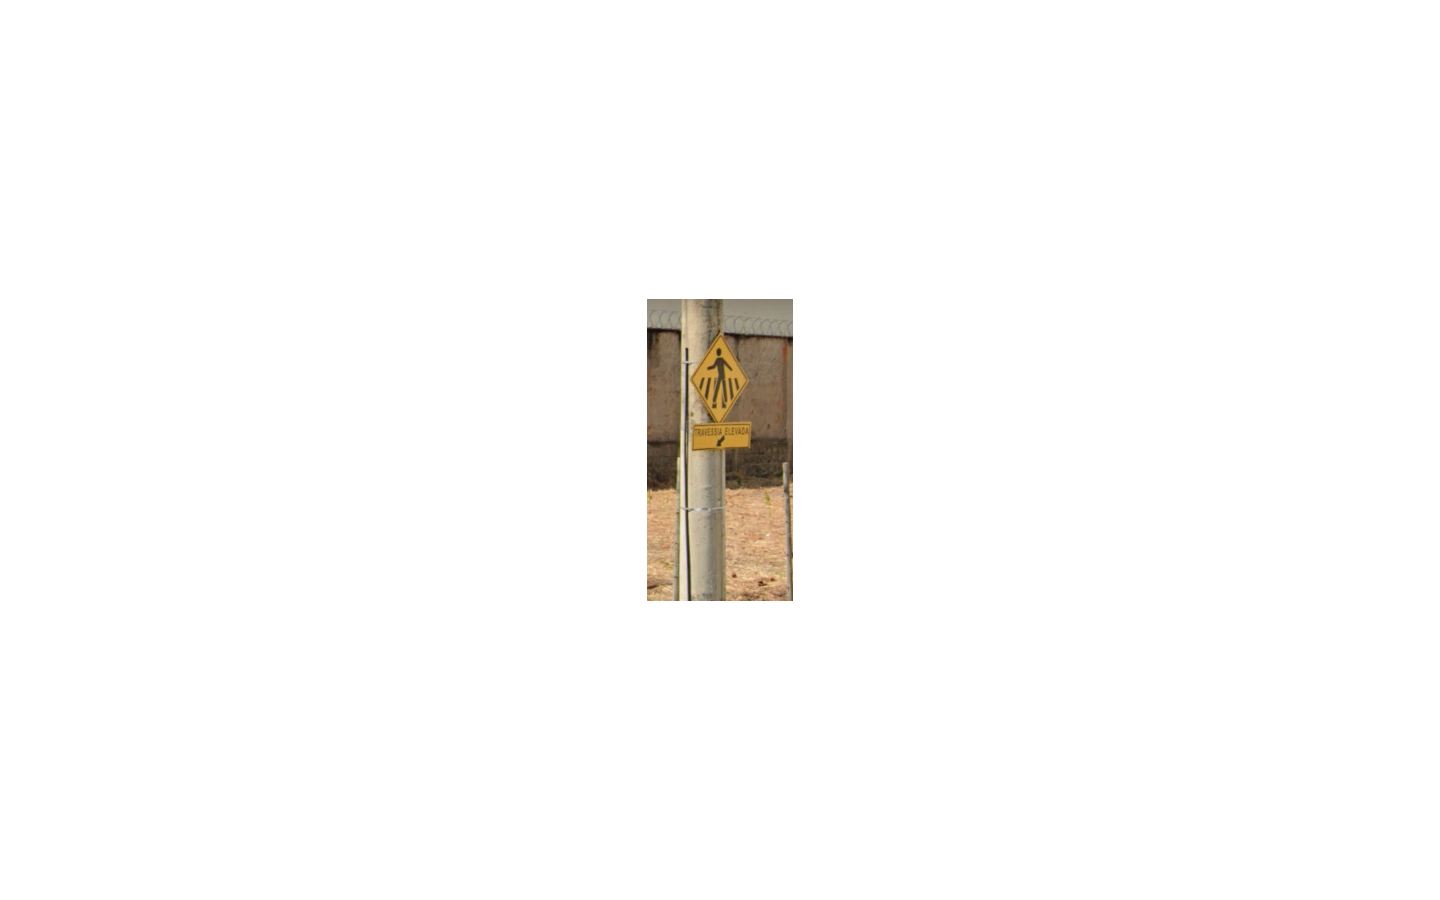telev: (690, 335, 751, 450)
